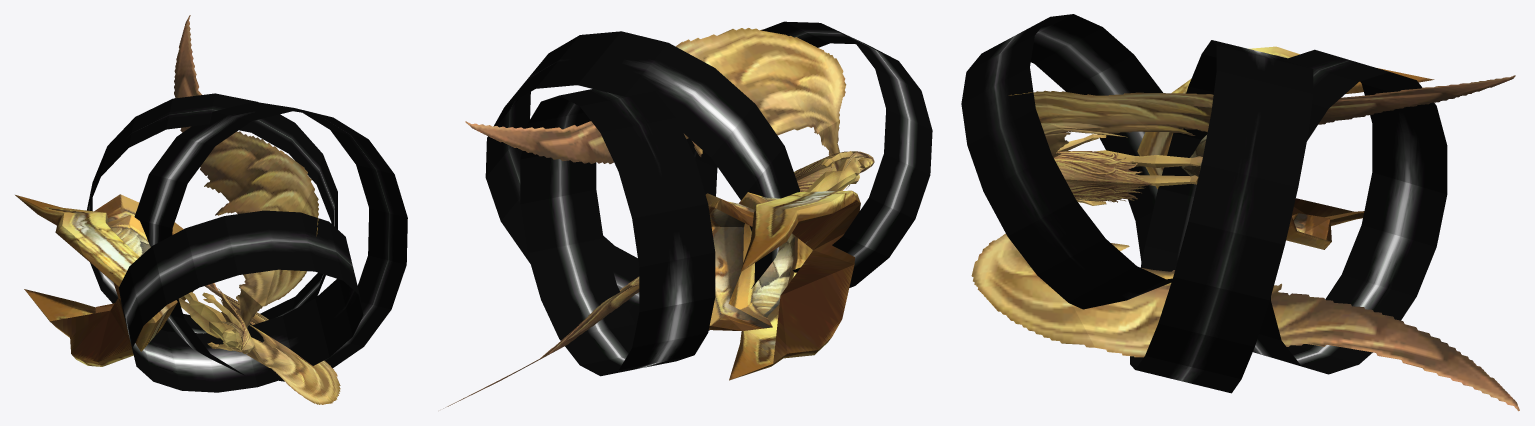
The model's file is common_shoulder_44530.obj.
3 renders of one model, left to right at view 1: azimuth 30°, elevation 25°; view 2: azimuth 150°, elevation 25°; view 3: azimuth 270°, elevation 25°, orthographic. The views are drawn at different scales.
Visible parts, largest first — view 1: common_shoulder_44530, Cylinder03, Cylinder01, Cylinder02; view 2: common_shoulder_44530, Cylinder02, Cylinder01, Cylinder03; view 3: common_shoulder_44530, Cylinder01, Cylinder03, Cylinder02.
Boxes of the visible parts, x1,y1,x2,y2 form: common_shoulder_44530: [15, 15, 340, 404]; Cylinder03: [119, 210, 363, 392]; Cylinder01: [134, 101, 407, 381]; Cylinder02: [86, 93, 337, 333]; common_shoulder_44530: [443, 28, 874, 408]; Cylinder02: [520, 89, 715, 376]; Cylinder01: [485, 31, 799, 330]; Cylinder03: [686, 21, 932, 287]; common_shoulder_44530: [971, 46, 1519, 411]; Cylinder01: [1130, 40, 1313, 393]; Cylinder03: [961, 14, 1172, 309]; Cylinder02: [1253, 49, 1447, 374].
Bounding box in the file's own units: 28.52 × 22.84 × 35.81.
3 materials, 3 textured.
